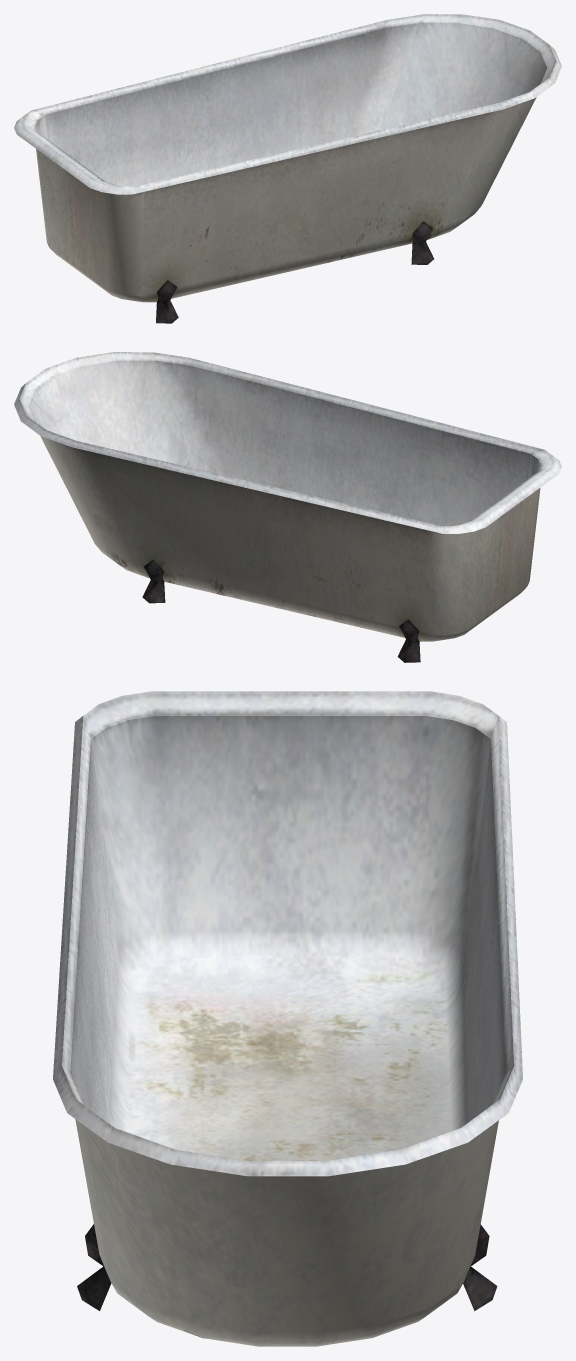
Rendered from bathtub1.glb.
The picture shows the model from 3 angles, top to bottom: view 1: azimuth 30°, elevation 25°; view 2: azimuth 150°, elevation 25°; view 3: azimuth 270°, elevation 25°; orthographic projection. The views are drawn at different scales.
Visible parts, largest first — view 1: bathtub1; view 2: bathtub1; view 3: bathtub1.
Part boxes in pixels (x1=…): bathtub1: x1=14, y1=14, x2=561, y2=323; bathtub1: x1=14, y1=352, x2=561, y2=662; bathtub1: x1=53, y1=691, x2=522, y2=1346.
Bounding box in the file's own units: 1.81 × 0.5289 × 0.7531.
1 material, 1 textured.
